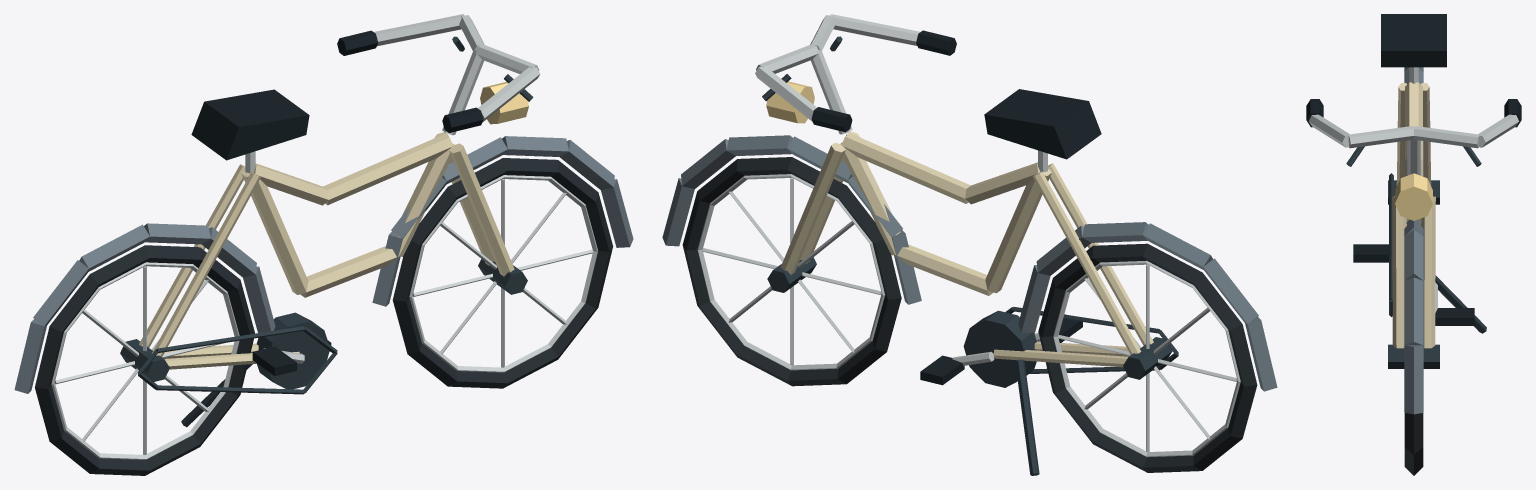
File: b03_swept_bar_beach_cruiser.glb
3 views of the same model, side by side, from view 1: azimuth 30°, elevation 25°; view 2: azimuth 150°, elevation 25°; view 3: azimuth 270°, elevation 25° (orthographic). The views are drawn at different scales.
Visible parts, largest first — view 1: b03_swept_bar_beach_cruiser; view 2: b03_swept_bar_beach_cruiser; view 3: b03_swept_bar_beach_cruiser.
Boxes of the visible parts, left/top/right/bottom form: b03_swept_bar_beach_cruiser: left=14, top=14, right=633, bottom=475; b03_swept_bar_beach_cruiser: left=662, top=14, right=1277, bottom=475; b03_swept_bar_beach_cruiser: left=1306, top=14, right=1521, bottom=475.
Size of the model in its own units: 1.94 by 1.04 by 0.62.
